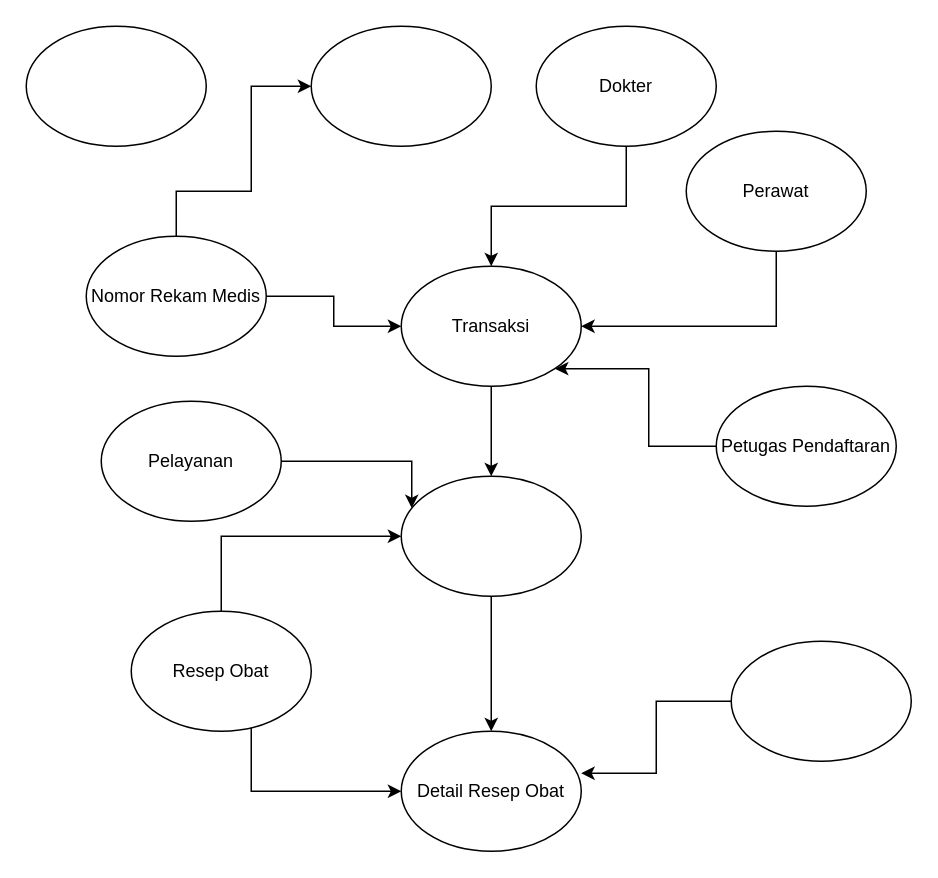
Image size: 938x878. Some labels were removed from this diagram. The box of each missing label's shape, as (x1, y1, x2, y2) in pixels:
Detail Transaksi: (400, 475, 581, 596)
Klinik: (25, 25, 206, 146)
Obat: (730, 640, 911, 761)
Pasien: (310, 25, 491, 146)
